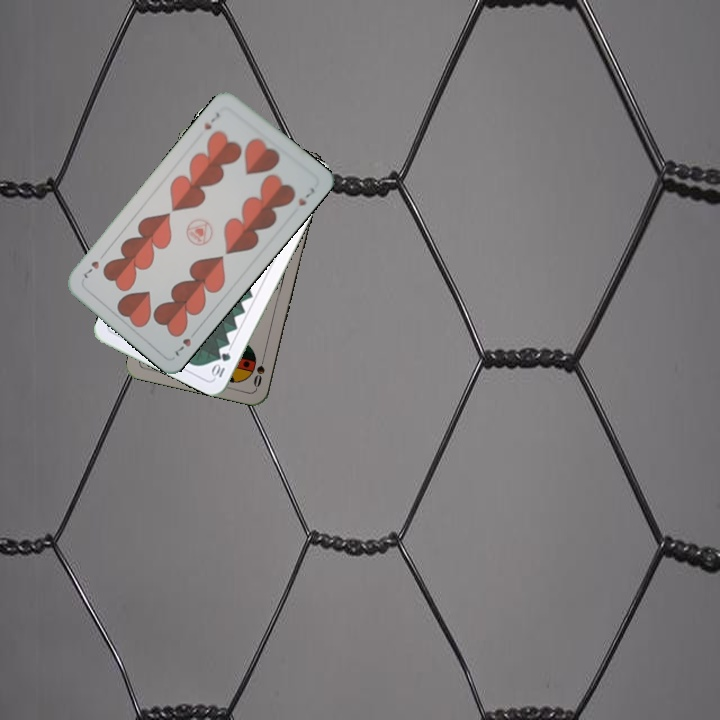G10: (208, 348, 233, 381)
H7: (171, 326, 200, 359), (200, 108, 222, 133)
SO: (249, 350, 268, 390)
